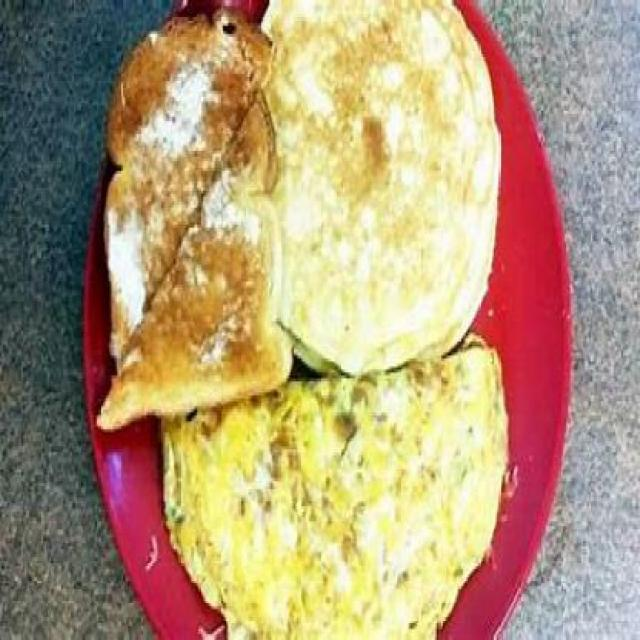french toast: (89, 8, 288, 407)
omelette: (157, 360, 509, 638)
